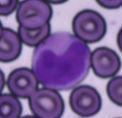M: (32, 31, 92, 90)
